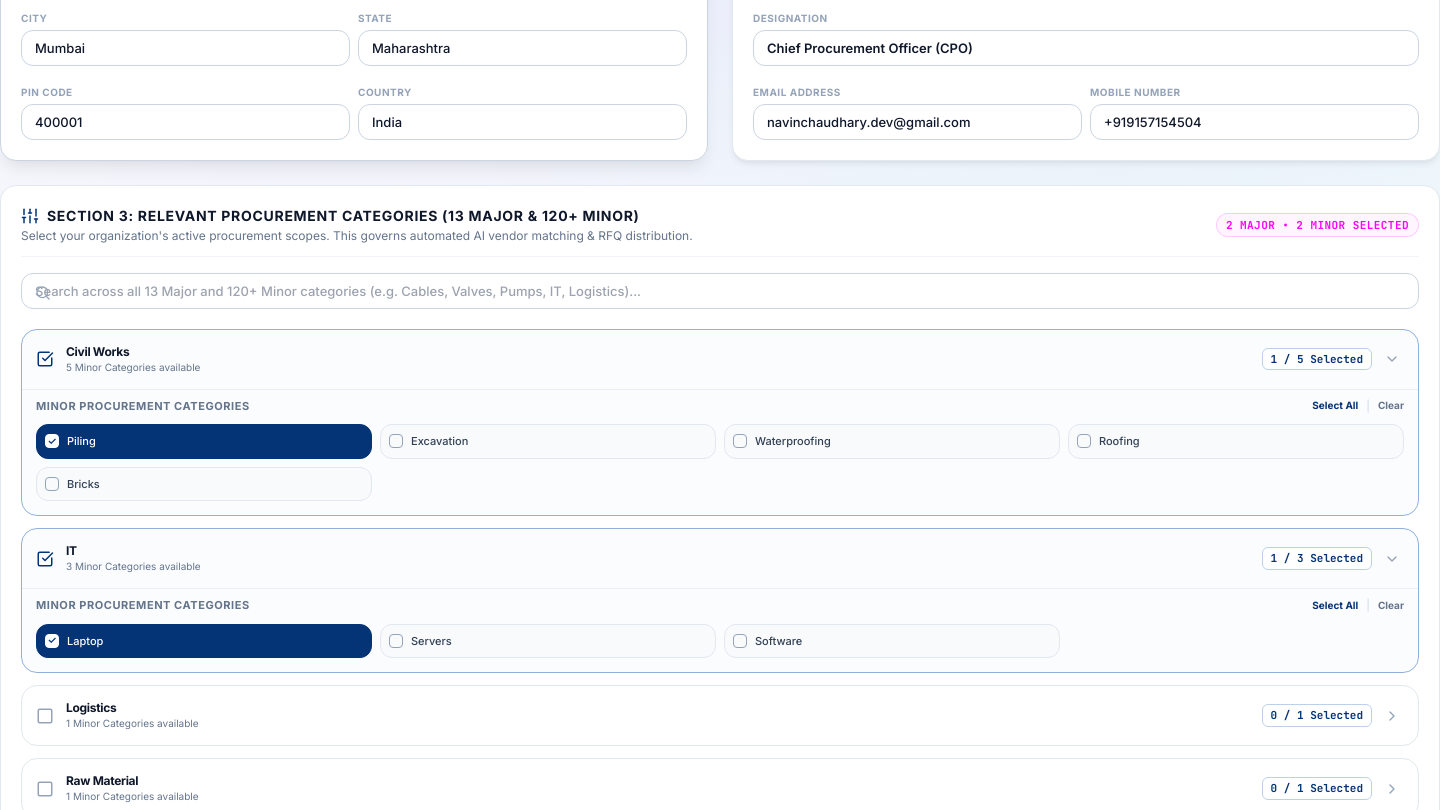
app/buyer/buyer-profile.tsx › selects and clears every minor within a major
(page scrolled)
Click the 1st button "Select All" at (1335, 406), box [1312,398,1358,413]
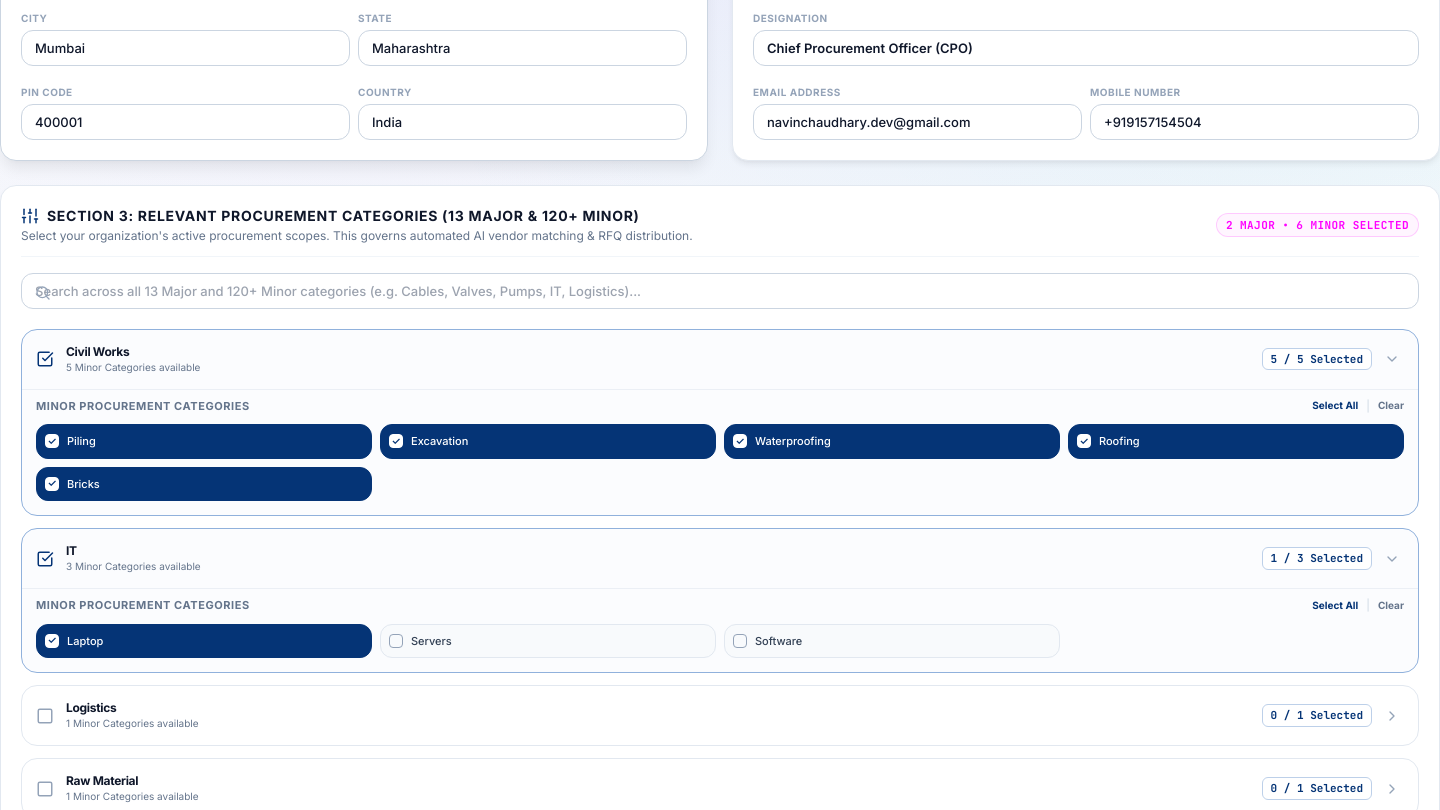
Expected: the text with class "font-mono" reads "2 Major • 6 Minor Selected", [1216,212,1419,236]
Click the 1st button "Clear" at (1391, 406), box [1378,398,1404,413]
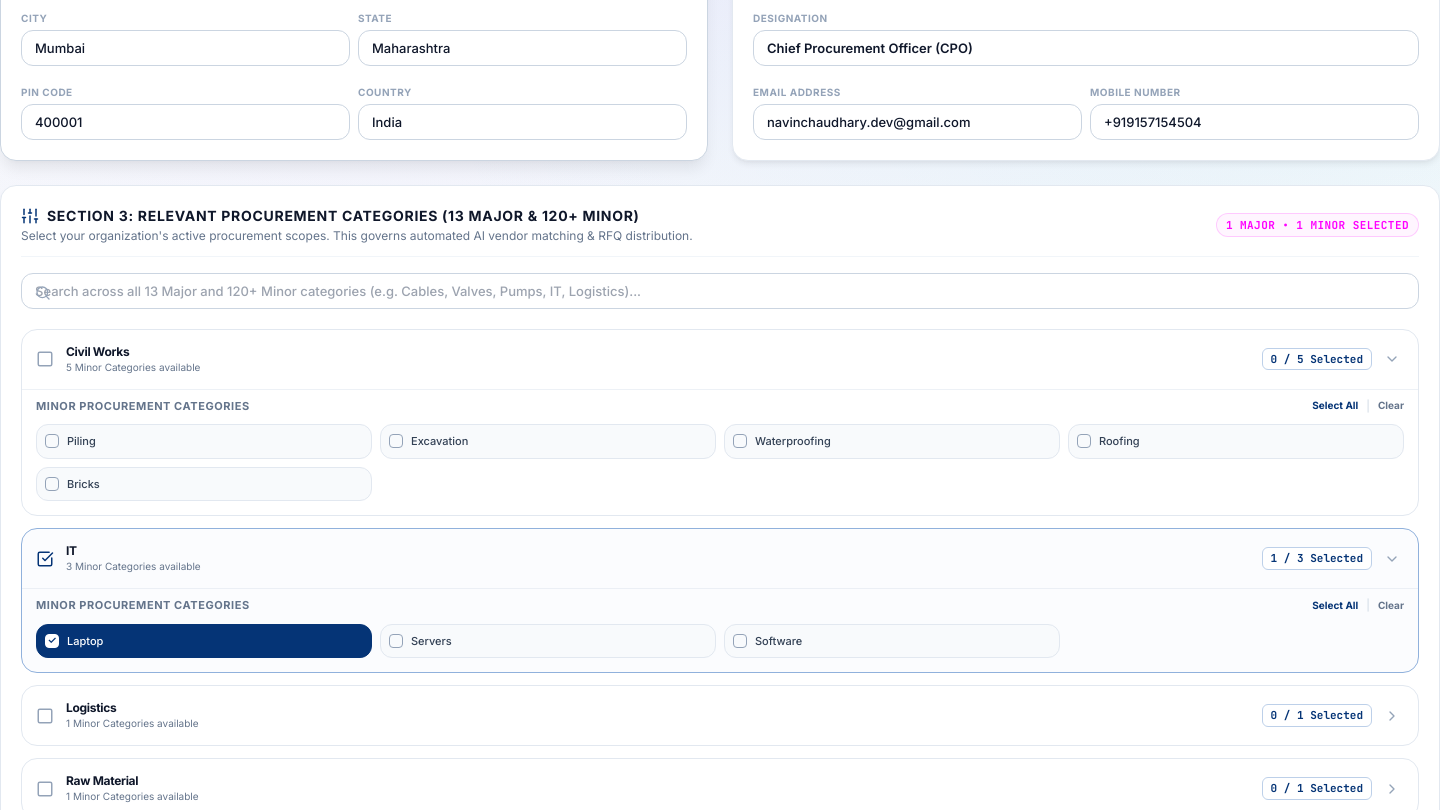
Expected: the text with class "font-mono" reads "1 Major • 1 Minor Selected", [1216,212,1419,236]
